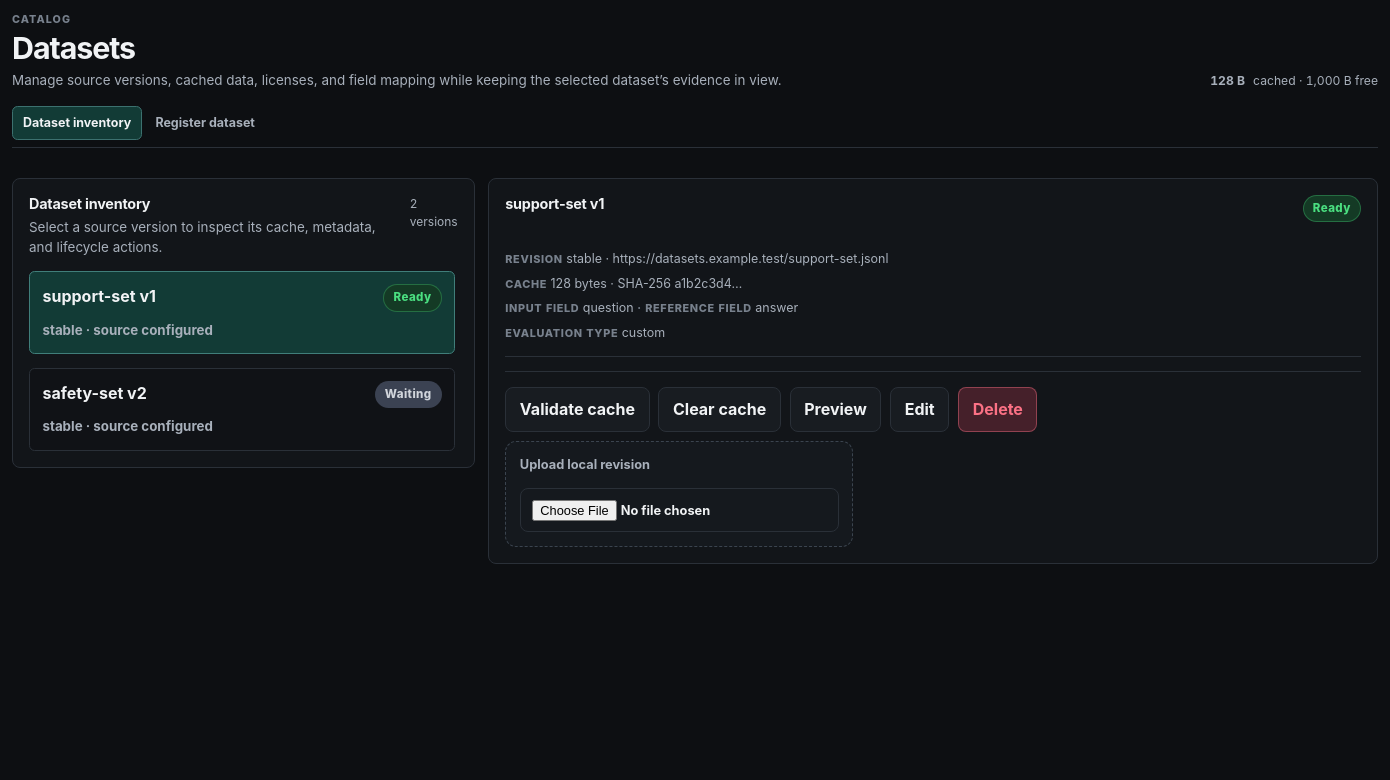
it: catalog workspace pages › keeps the dataset inventory visible while selecting a versioned inspector
The image size is (1390, 780).
expect the heading "Datasets" is shown: met, box [12,30,135,66]
expect the button named "Inspect support-set v1" is shown: met, box [29,271,455,354]
Click the button named "Inspect safety-set v2" at (83, 393), box [29,368,455,451]
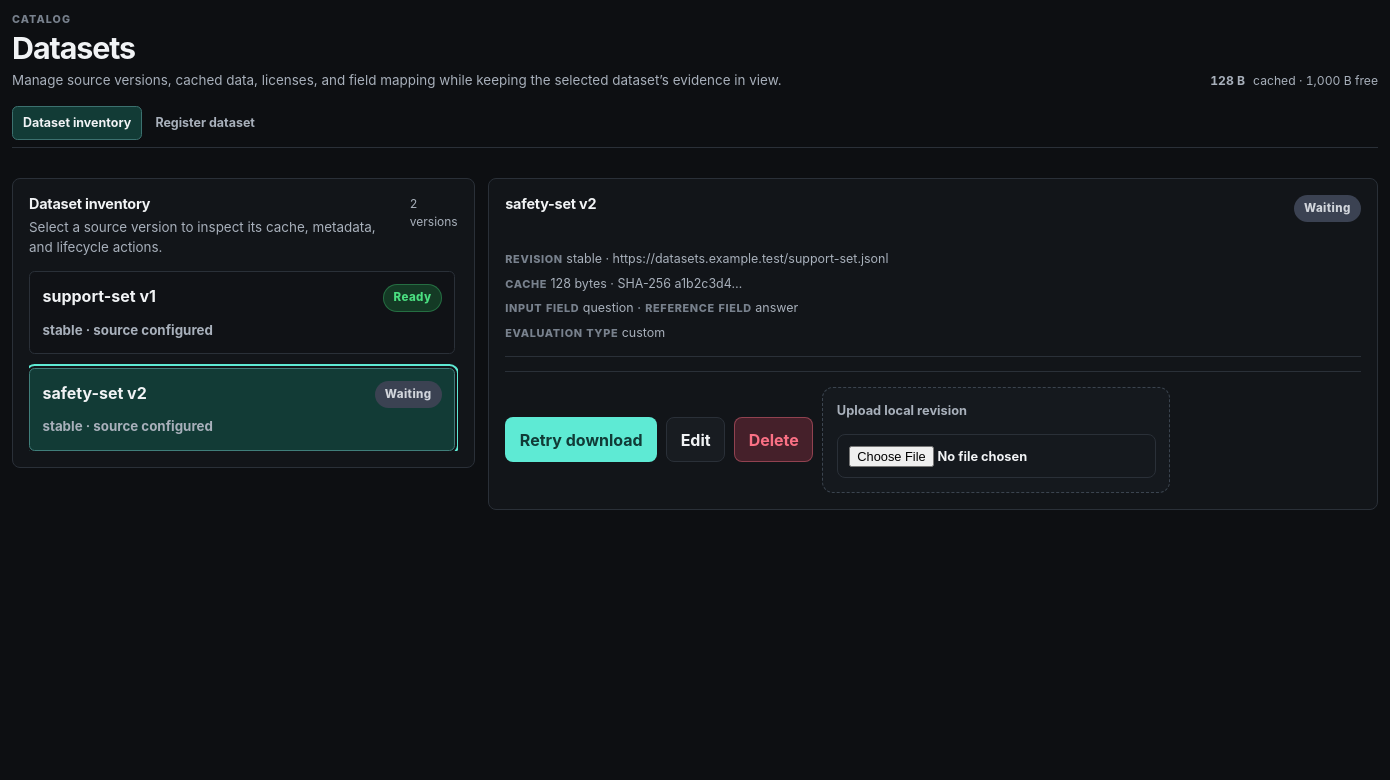
expect the button named "Inspect support-set v1" is shown: met, box [29,271,455,354]
expect the heading "safety-set v2" is shown: met, box [505,195,596,212]
expect the button "Retry download" is shown: met, box [505,417,657,462]
